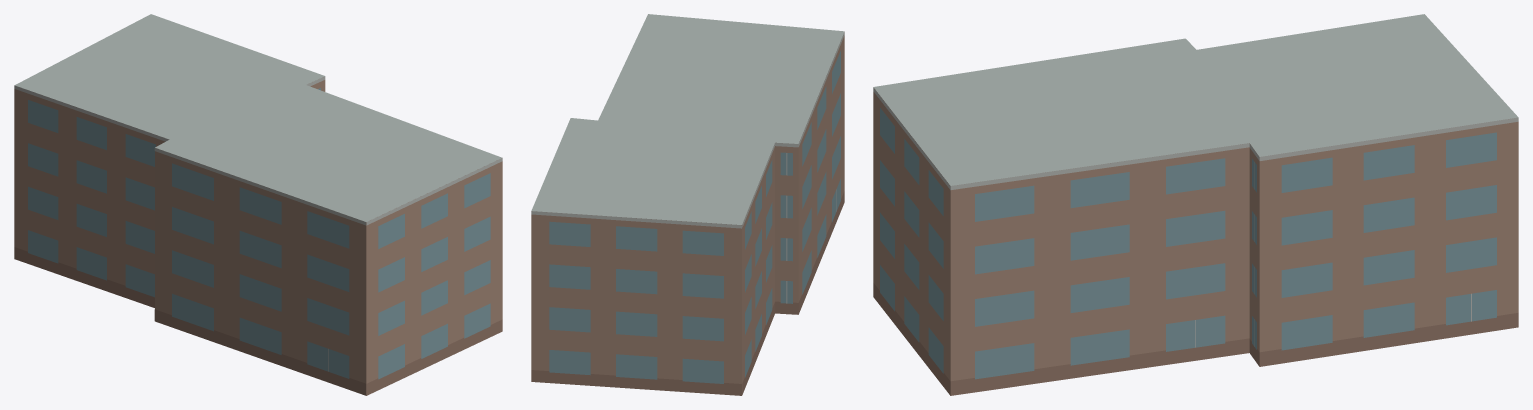
The model's file is survey-upis-32570718.glb.
3 renders of one model, left to right at view 1: azimuth 30°, elevation 25°; view 2: azimuth 150°, elevation 25°; view 3: azimuth 270°, elevation 25°, orthographic. The views are drawn at different scales.
Visible parts, largest first — view 1: survey-upis-32570718.tmp; view 2: survey-upis-32570718.tmp; view 3: survey-upis-32570718.tmp.
Part boxes in pixels (<box>): survey-upis-32570718.tmp: <box>14,14,502,395</box>; survey-upis-32570718.tmp: <box>531,14,844,395</box>; survey-upis-32570718.tmp: <box>873,14,1518,395</box>.
Size of the model in its own units: 21.46 by 12.2 by 34.01.
